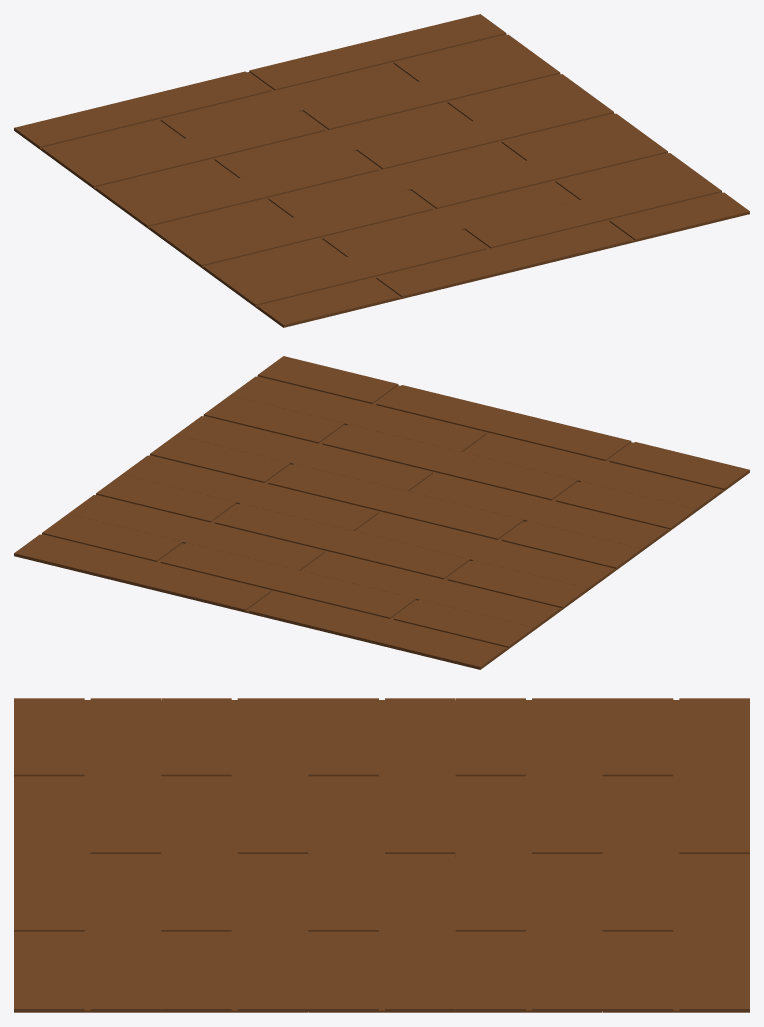
The model's file is floor.glb.
3 views of the same model, one above another, from view 1: azimuth 30°, elevation 25°; view 2: azimuth 150°, elevation 25°; view 3: azimuth 270°, elevation 25° (orthographic). The views are drawn at different scales.
Visible parts, largest first — view 1: Floor; view 2: Floor; view 3: Floor.
Boxes of the visible parts, x1,y1,x2,y2 form: Floor: [14, 14, 749, 327]; Floor: [14, 356, 749, 669]; Floor: [14, 698, 749, 1012].
Size of the model in its own units: 3.82 by 0.0224 by 3.82.
